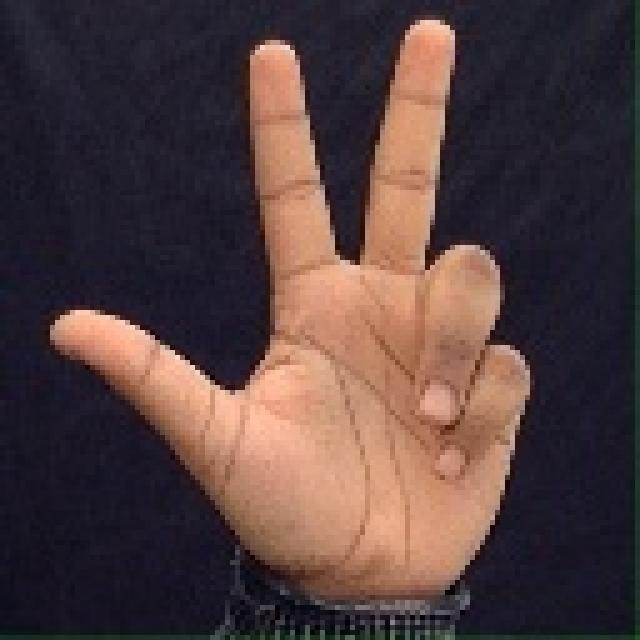Eight: (31, 8, 586, 617)
